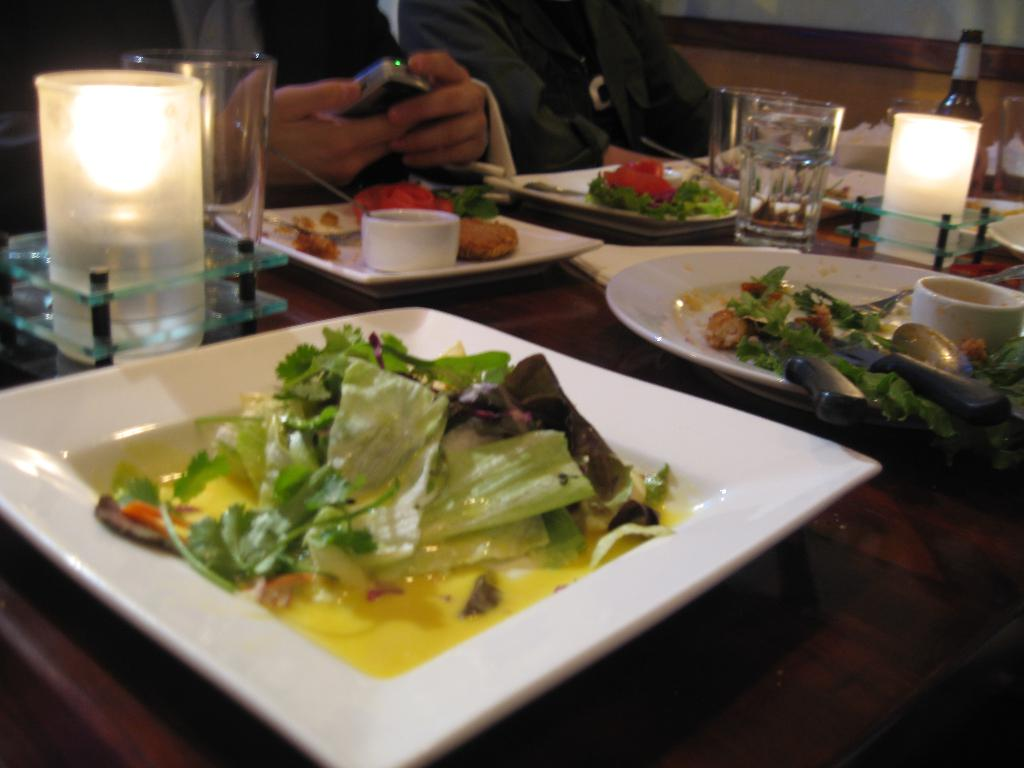salad: (96, 315, 678, 619)
